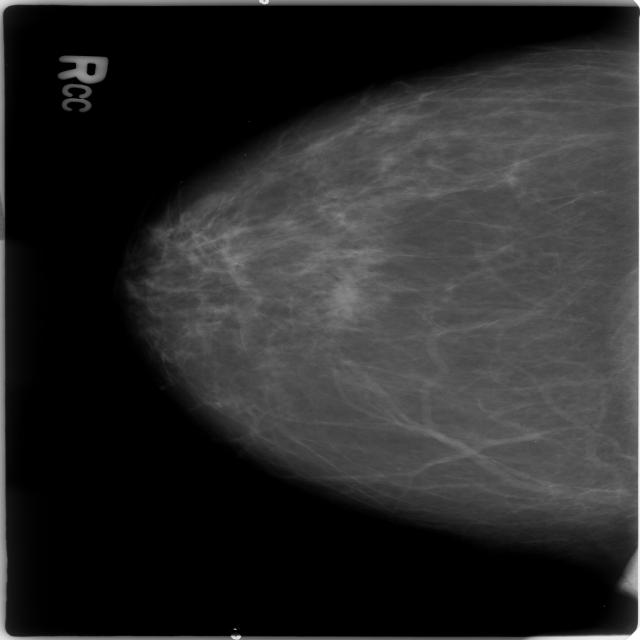normal: (109, 55, 640, 534)
